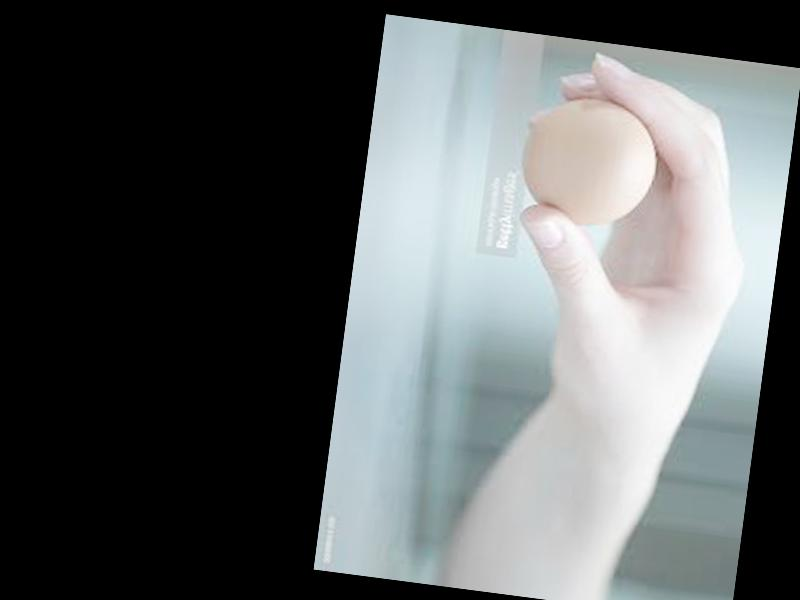Eggs: (512, 90, 665, 236)
